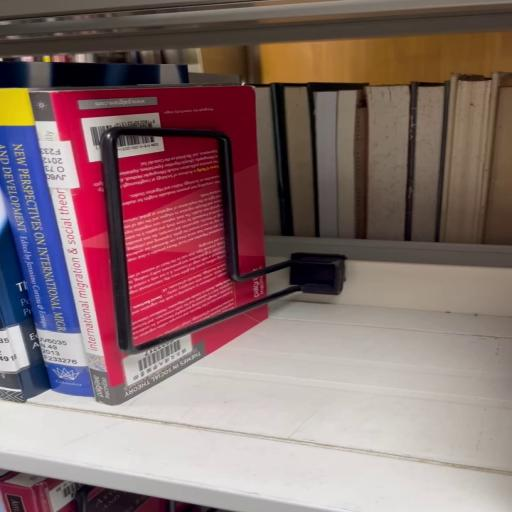reverse: (1, 86, 268, 406)
